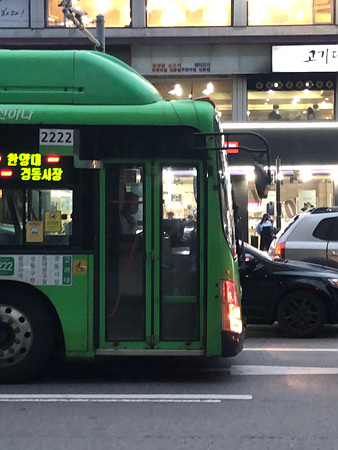entrance: (96, 154, 208, 355)
